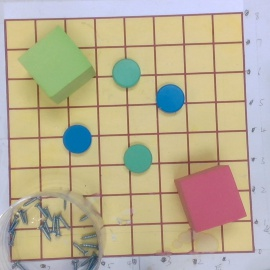blue: (62, 124, 92, 155), (156, 83, 185, 114)
green: (110, 57, 141, 89), (123, 144, 153, 174)
